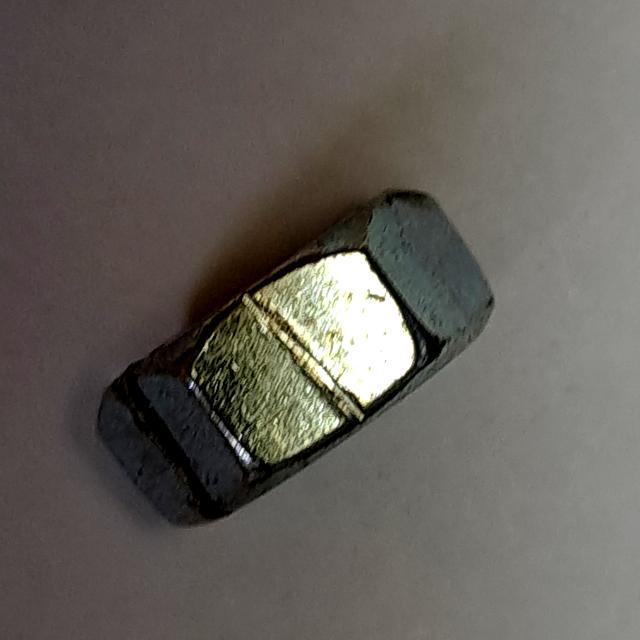Side_Scratches: (83, 177, 513, 539)
